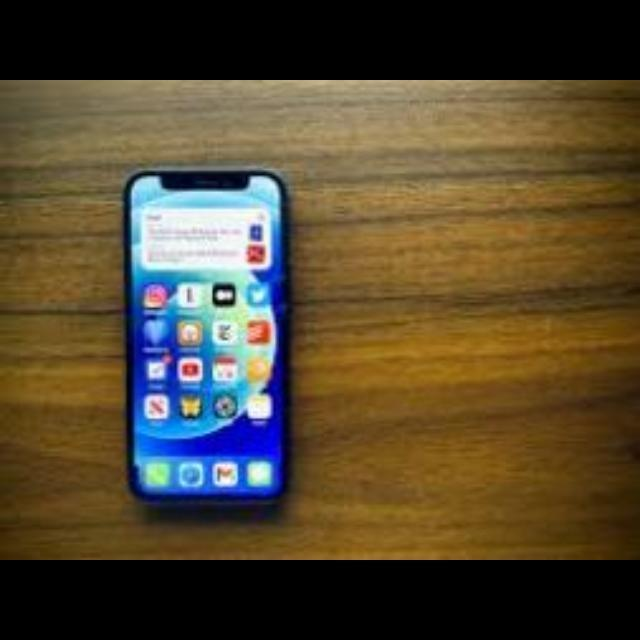PhoneUse: (116, 166, 294, 520)
